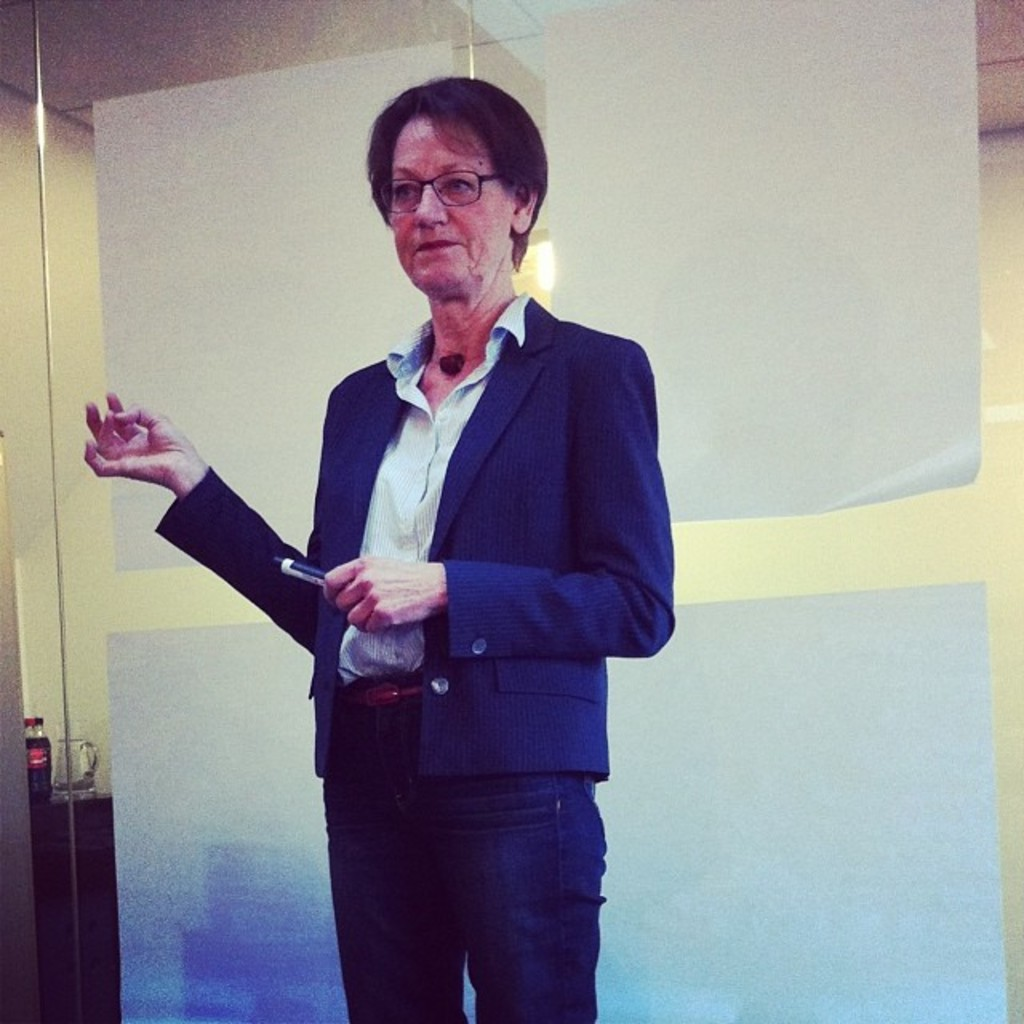Human_hand: (82, 392, 200, 486), (323, 555, 443, 634)
